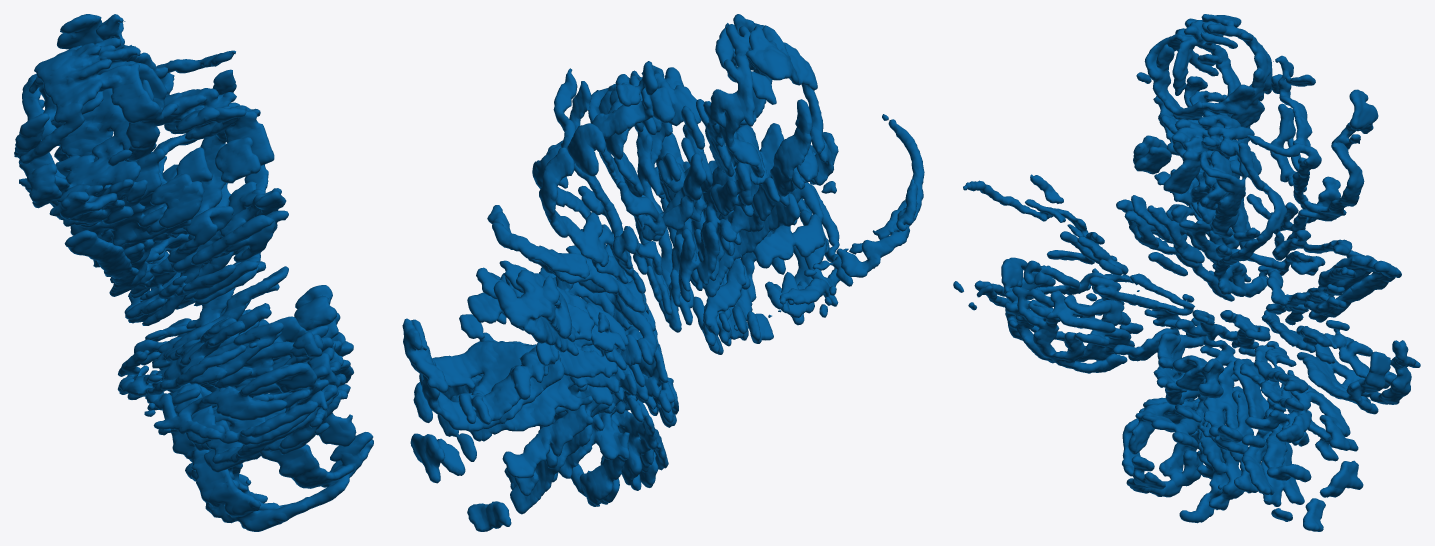
Rendered from 6HR_100cis_timelapse_z.glb.
3 views of the same model, side by side, from view 1: azimuth 30°, elevation 25°; view 2: azimuth 150°, elevation 25°; view 3: azimuth 270°, elevation 25° (orthographic). The views are drawn at different scales.
Parts seen in each view (by area): view 1: MAX_100cis_timelapse_z; view 2: MAX_100cis_timelapse_z; view 3: MAX_100cis_timelapse_z.
Part boxes in pixels (<box>): MAX_100cis_timelapse_z: <box>14,14,373,531</box>; MAX_100cis_timelapse_z: <box>402,14,924,531</box>; MAX_100cis_timelapse_z: <box>953,14,1420,531</box>.
Size of the model in its own units: 19.44 by 26.13 by 25.39.
